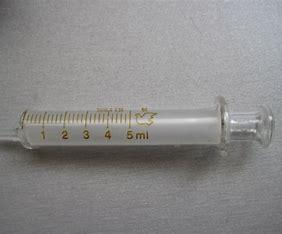Syringe: (1, 92, 282, 166)
